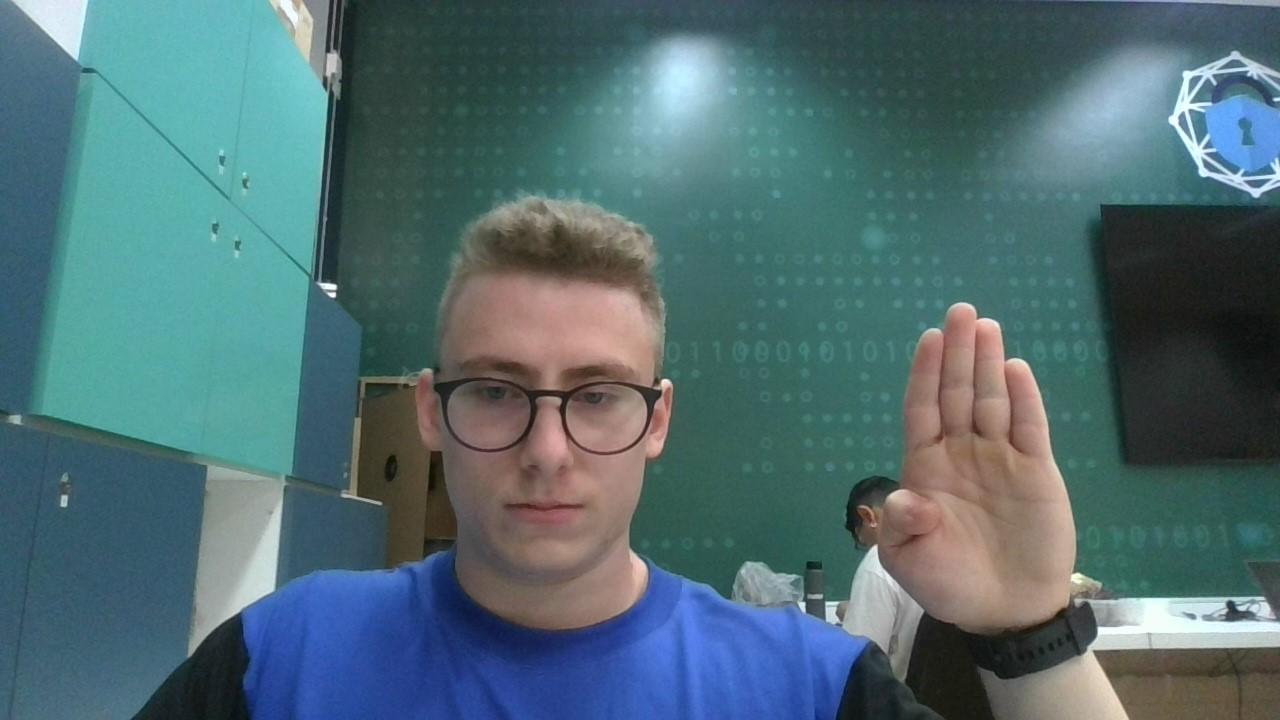B: (872, 304, 1084, 624)
